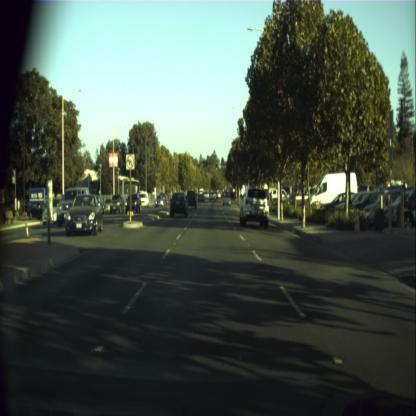Green: (215, 163, 217, 170)
